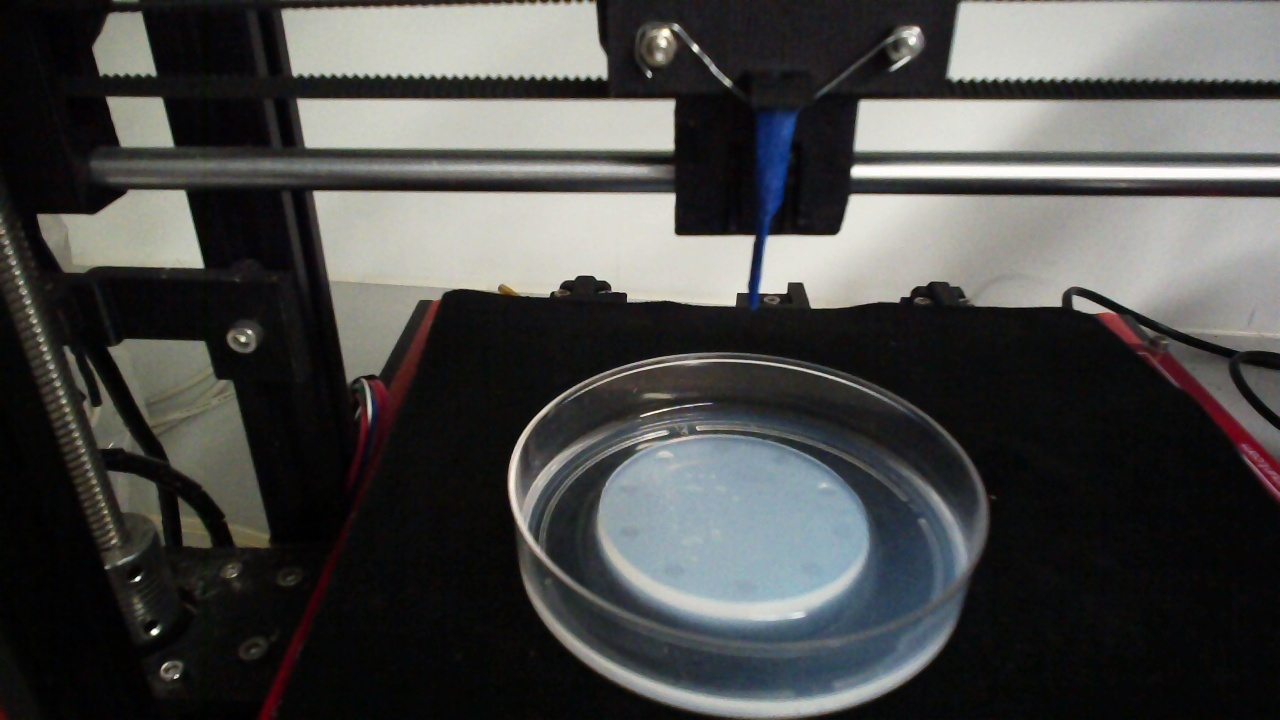groove: (800, 560, 826, 582), (830, 521, 855, 542), (735, 578, 762, 596), (662, 562, 688, 579), (619, 522, 643, 540), (815, 483, 840, 500), (769, 452, 793, 468), (652, 450, 675, 466), (616, 479, 638, 494), (712, 440, 733, 455)
needle: (746, 110, 796, 312)
